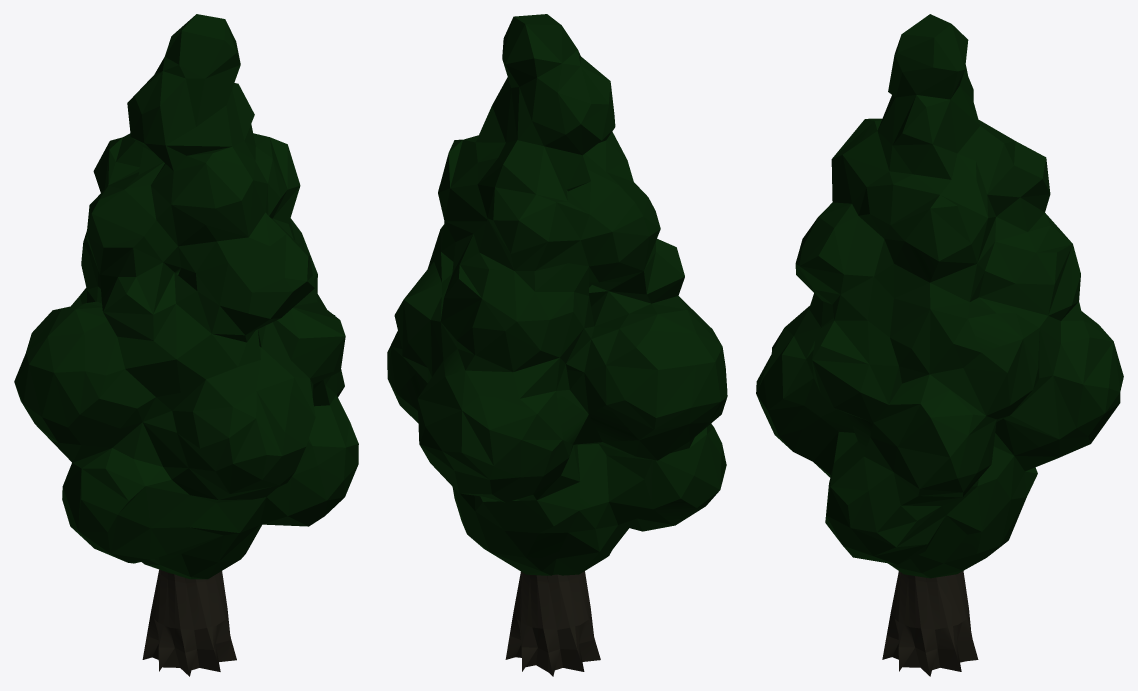
The model's file is tree_2_1.obj.
The picture shows the model from 3 angles, left to right: view 1: azimuth 30°, elevation 25°; view 2: azimuth 150°, elevation 25°; view 3: azimuth 270°, elevation 25°; orthographic projection.
Parts seen in each view (by area): view 1: polySurface43, polySurface21 pSphere23; view 2: polySurface43, polySurface21 pSphere23; view 3: polySurface43, polySurface21 pSphere23.
Part boxes in pixels (box(x1,y1,x2,y2)): polySurface43: box(14, 14, 358, 579); polySurface21 pSphere23: box(142, 569, 236, 676); polySurface43: box(387, 14, 727, 575); polySurface21 pSphere23: box(505, 571, 600, 676); polySurface43: box(756, 14, 1123, 578); polySurface21 pSphere23: box(882, 571, 978, 676).
Size of the model in its own units: 17.99 by 33.76 by 17.55.
